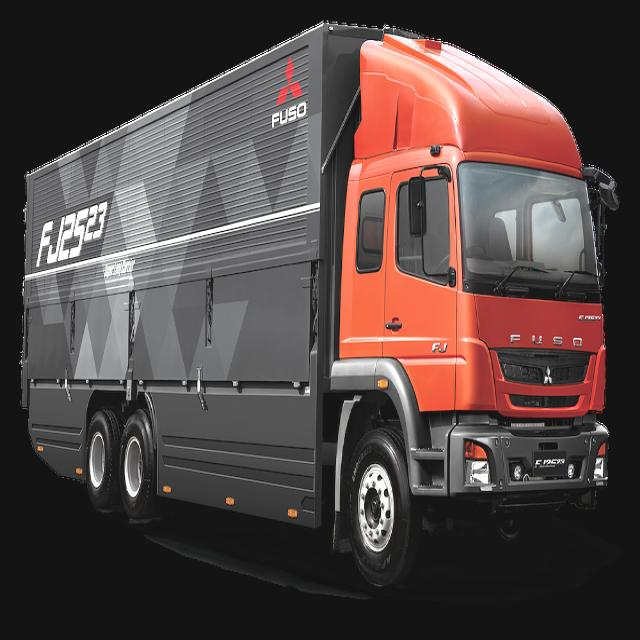truck: (22, 26, 619, 587)
